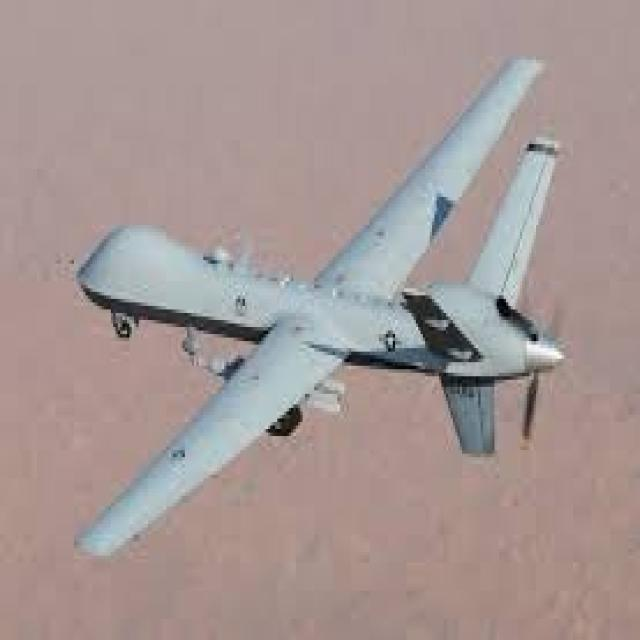MQ9: (43, 11, 605, 608)
